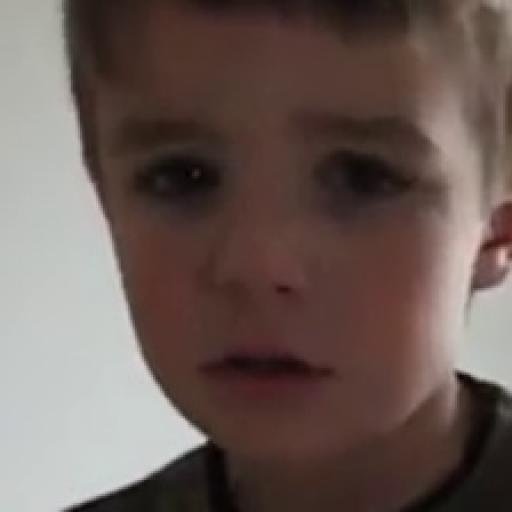Autism: (54, 0, 512, 499)
